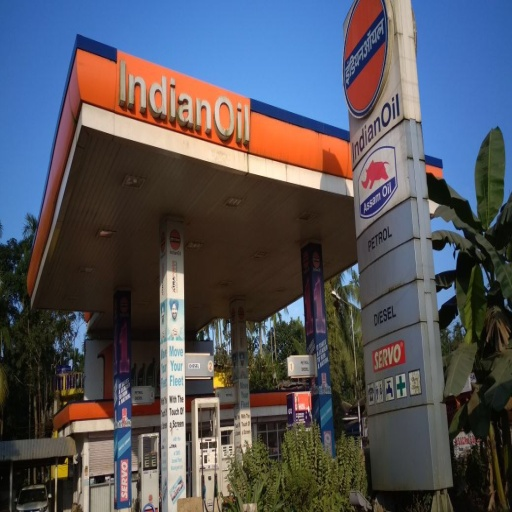roof: (25, 31, 443, 324)
